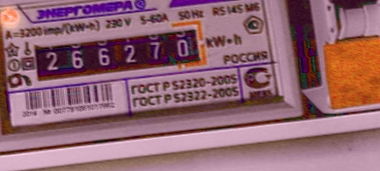0: (177, 34, 191, 56)
2: (46, 47, 62, 69), (124, 40, 138, 62)
6: (72, 46, 87, 68), (98, 44, 113, 64)
7: (149, 37, 164, 59)
screen: (25, 13, 217, 89)
